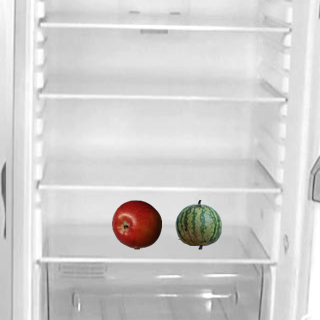Apple Braeburn: (111, 199, 161, 249)
Watermelon: (173, 199, 223, 249)
